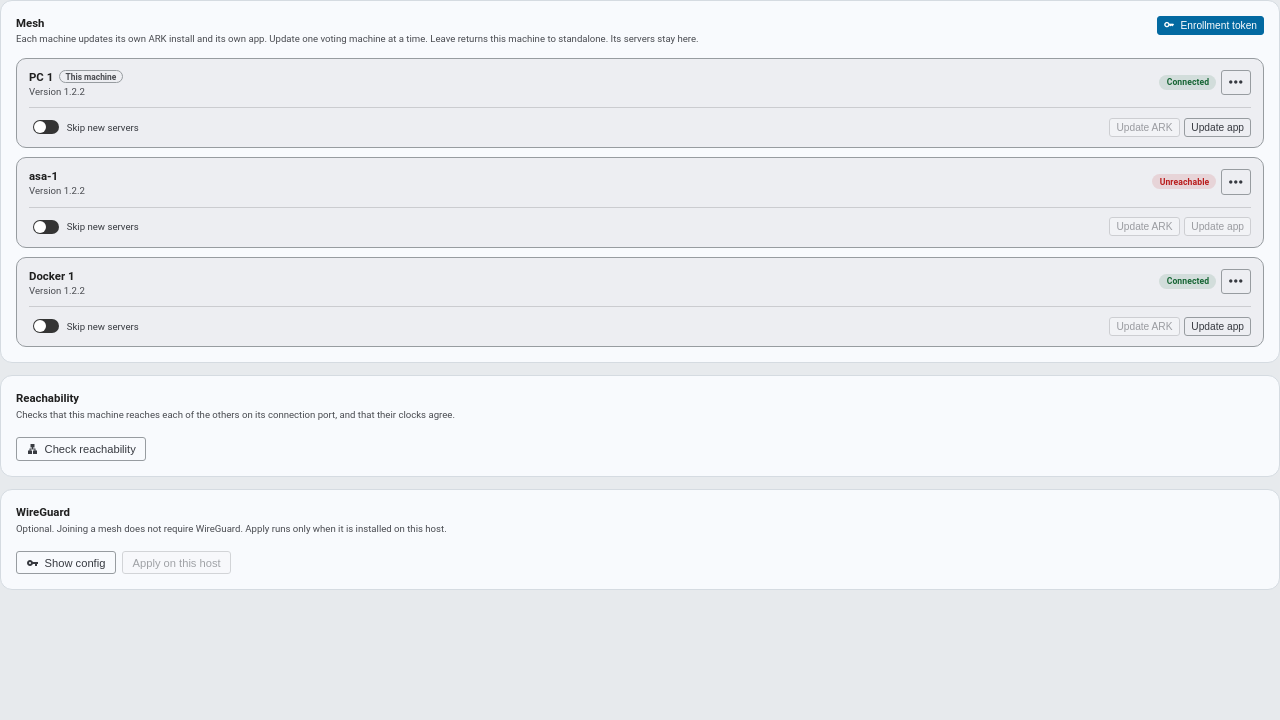
MeshSettingsComponent › a machine's menu › says why Change address waits for a machine that cannot be reached
The image size is (1280, 720).
Click the button with class "mesh-node-more" next to "Unreachable". click: (1236, 182)
box: [1221,169,1251,195]
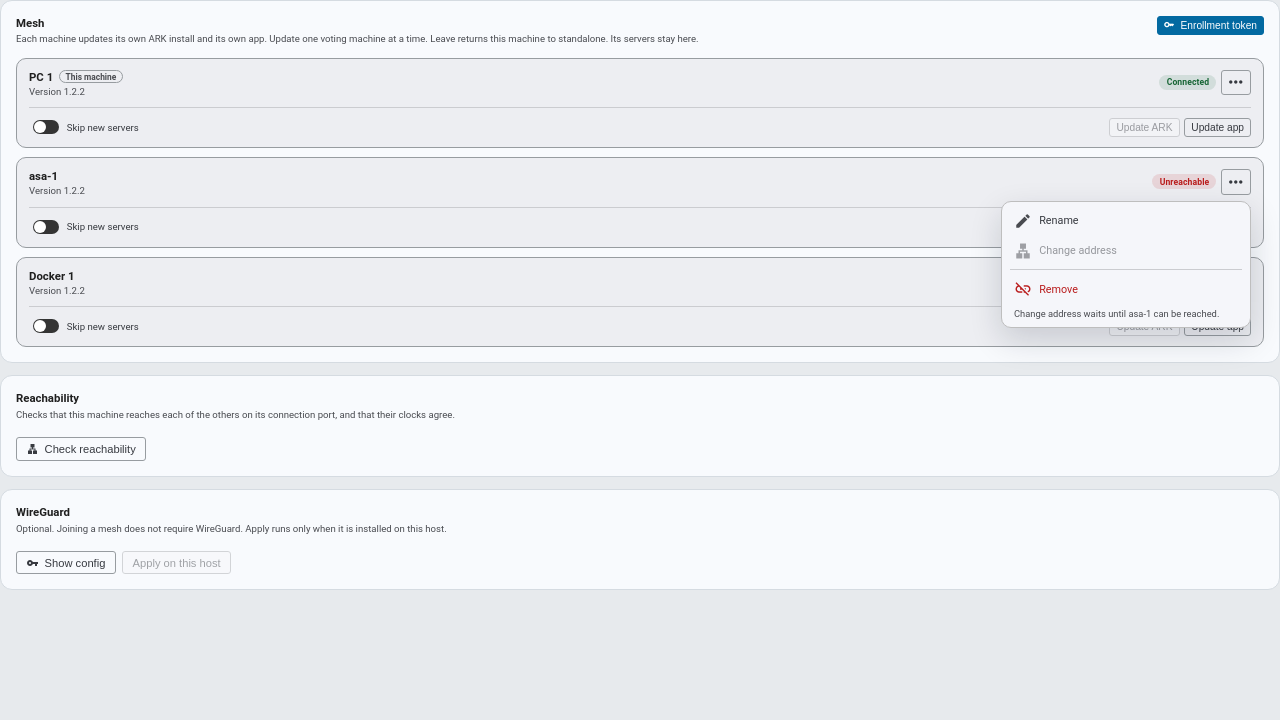
Now the menu item "Change address" is disabled, box [1006,236,1246,266]
Now the text with class "mesh-node-menu-note" reads "Change address waits until asa-1 can be reached.", box [1014,308,1219,319]
